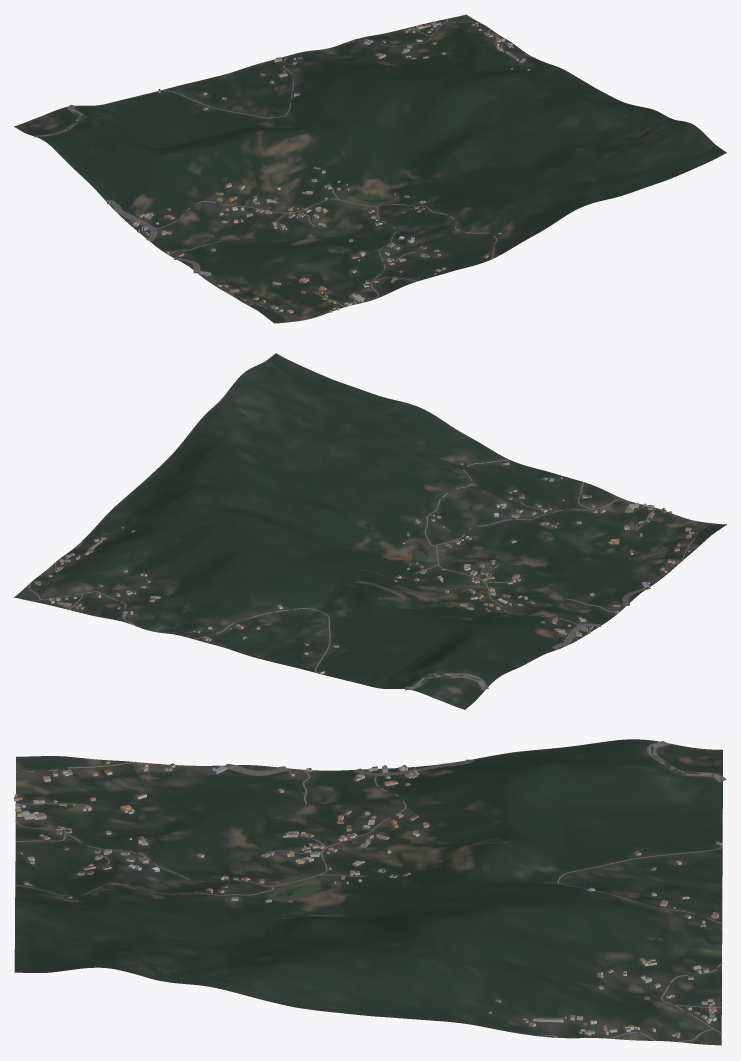
The picture shows the model from 3 angles, top to bottom: view 1: azimuth 30°, elevation 25°; view 2: azimuth 150°, elevation 25°; view 3: azimuth 270°, elevation 25°; orthographic projection. The views are drawn at different scales.
Parts seen in each view (by area): view 1: ground, buildings, roads; view 2: ground, buildings, roads; view 3: ground, buildings, roads.
Boxes of the visible parts, <box> form: ground: <box>14,14,726,323</box>; buildings: <box>132,21,529,313</box>; roads: <box>34,18,534,321</box>; ground: <box>14,353,726,709</box>; buildings: <box>35,462,694,674</box>; roads: <box>28,459,709,690</box>; ground: <box>14,739,722,1045</box>; buildings: <box>14,760,722,1038</box>; roads: <box>15,741,726,1042</box>.
Bounding box in the file's own units: 1411 × 224 × 1414.
